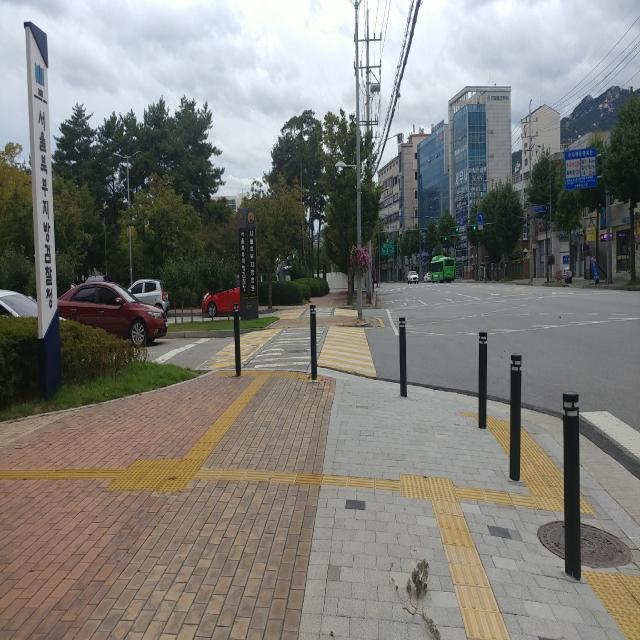횡단보도: (249, 306, 333, 369)
